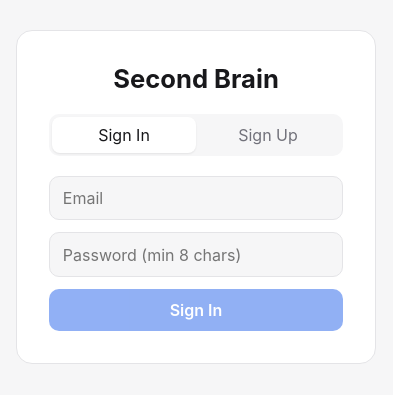
LoginPage › shows the server error message when login fails
Step 1. Type "a@b.com" into the field with placeholder "Email" → (196, 198), box [49,176,343,220]
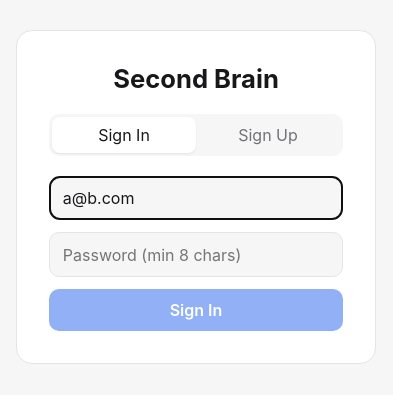
Step 2. Type "password123" into the password field with placeholder "Password (min 8 chars)" → (196, 254), box [49,232,343,277]
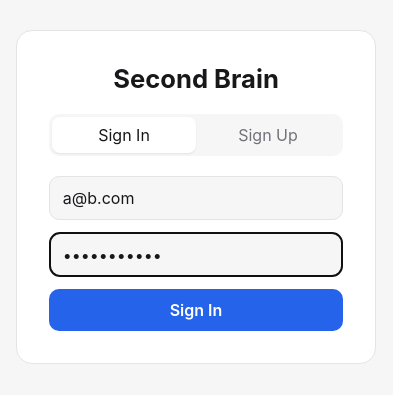
Step 3. Click the 2nd button "Sign In" → (196, 310), box [49,289,343,331]
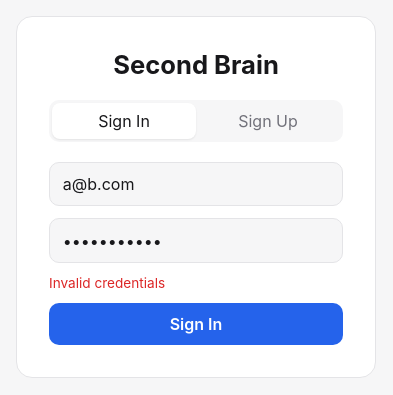
Now the text "Invalid credentials" is shown, box [49,275,165,291]
